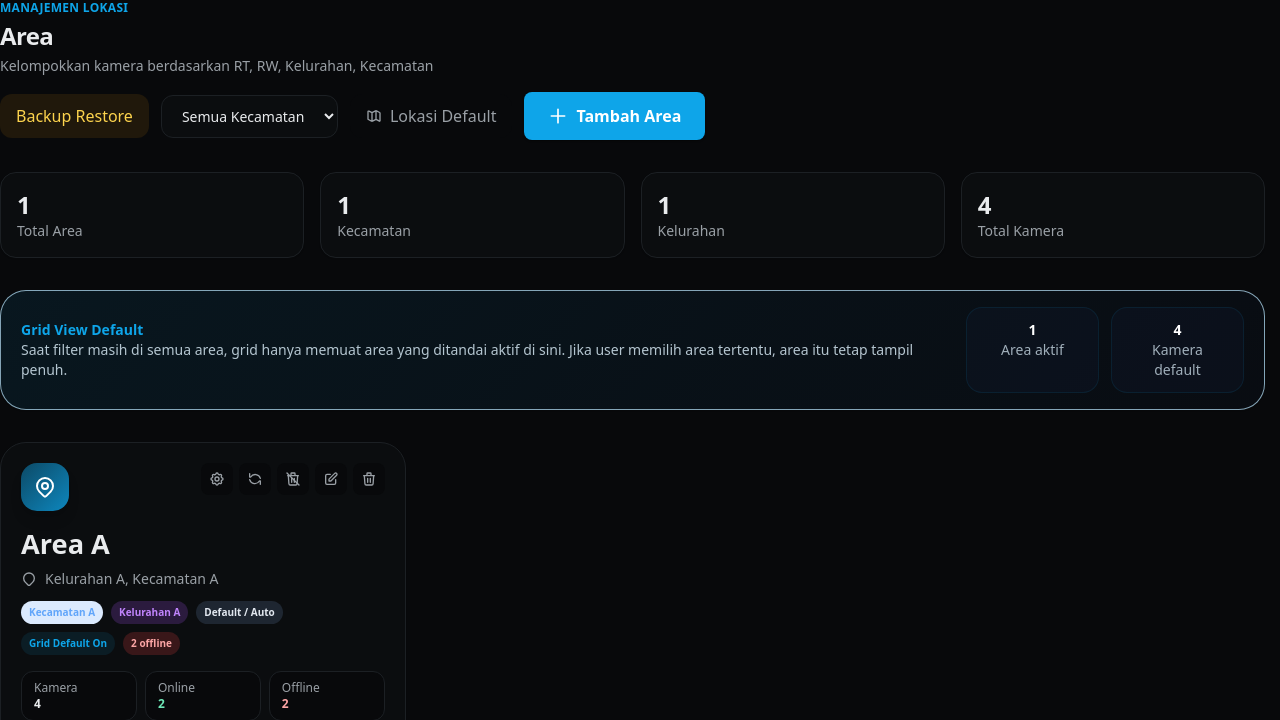
it: AreaManagement › membuka Bulk Policy Center sebagai dialog, dan Batal menutupnya
This screenshot has width=1280, height=720.
Expected: the heading "Area A" is shown, [21,525,110,562]
Click the button titled "Pengaturan Massal Kamera" at coordinates (217, 479), box [201,463,233,495]
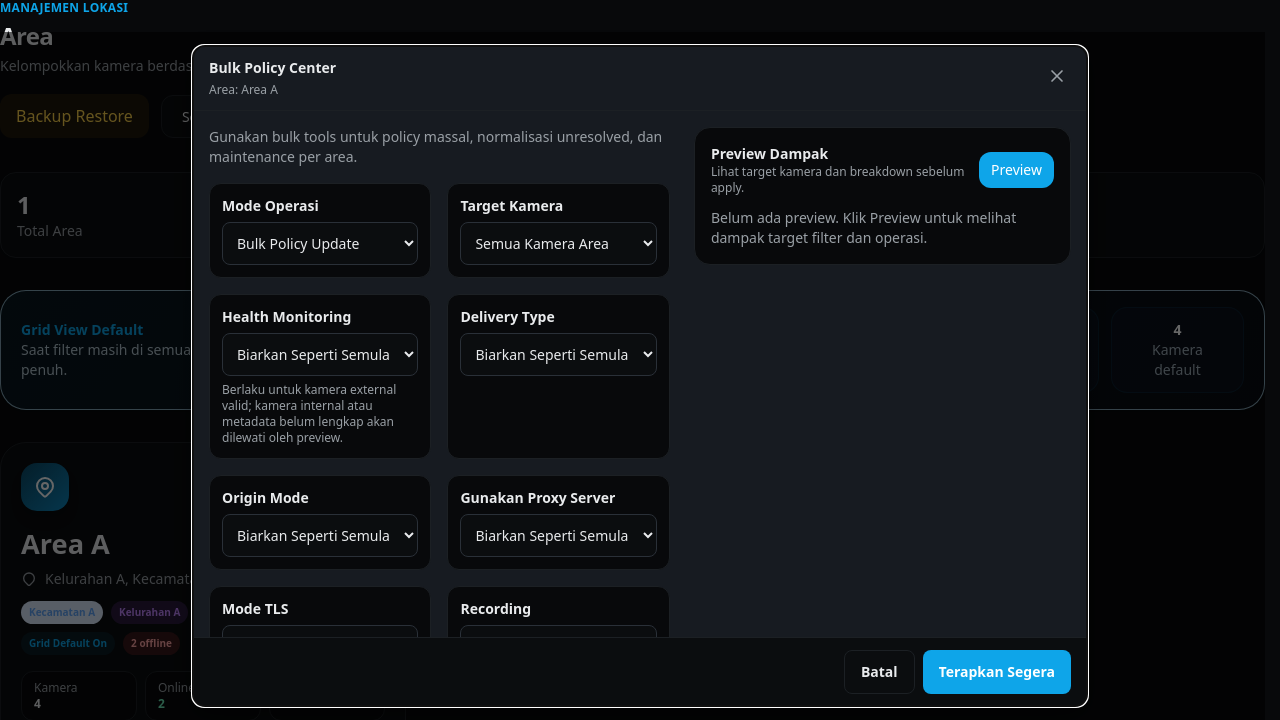
Expected: the heading "Bulk Policy Center" is shown, [209,58,336,78]
Expected: the text "Area: Area A" is shown, [209,81,278,98]
Expected: the dropdown named "Health Monitoring" is shown, [222,333,418,376]
Click the button "Batal" at coordinates (879, 672), box [844,650,915,694]
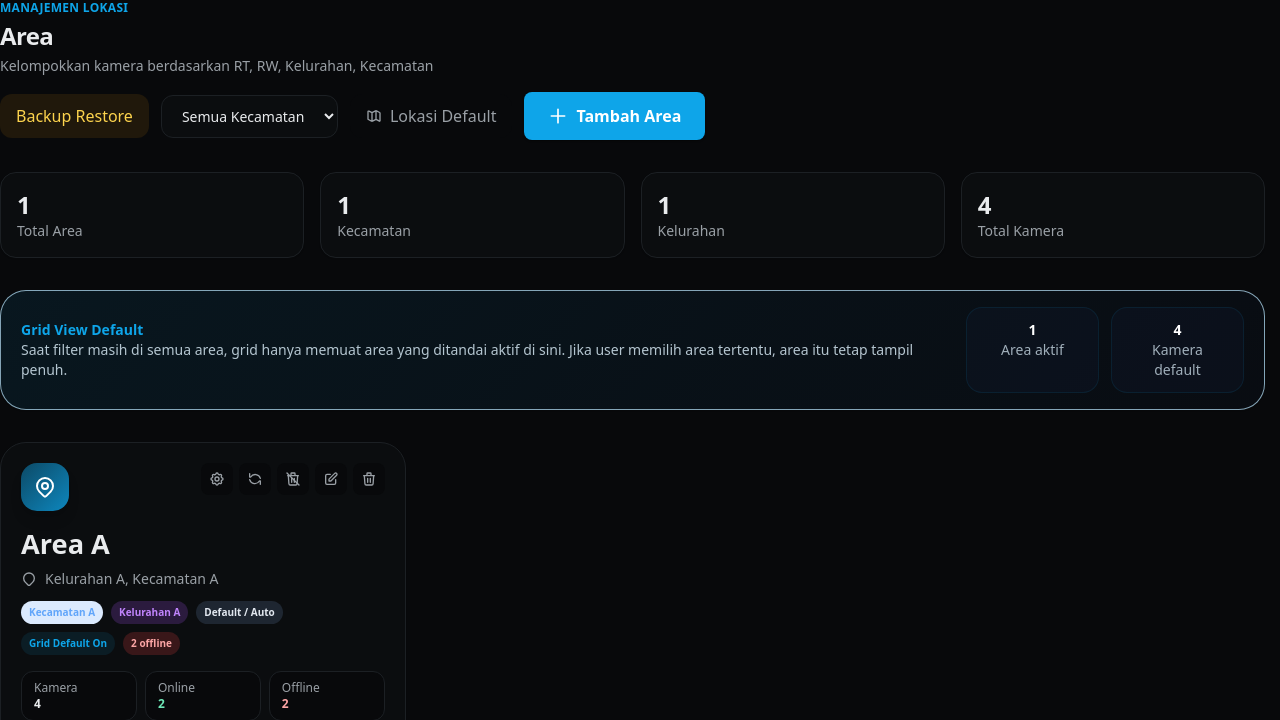
Expected: the dialog is gone
